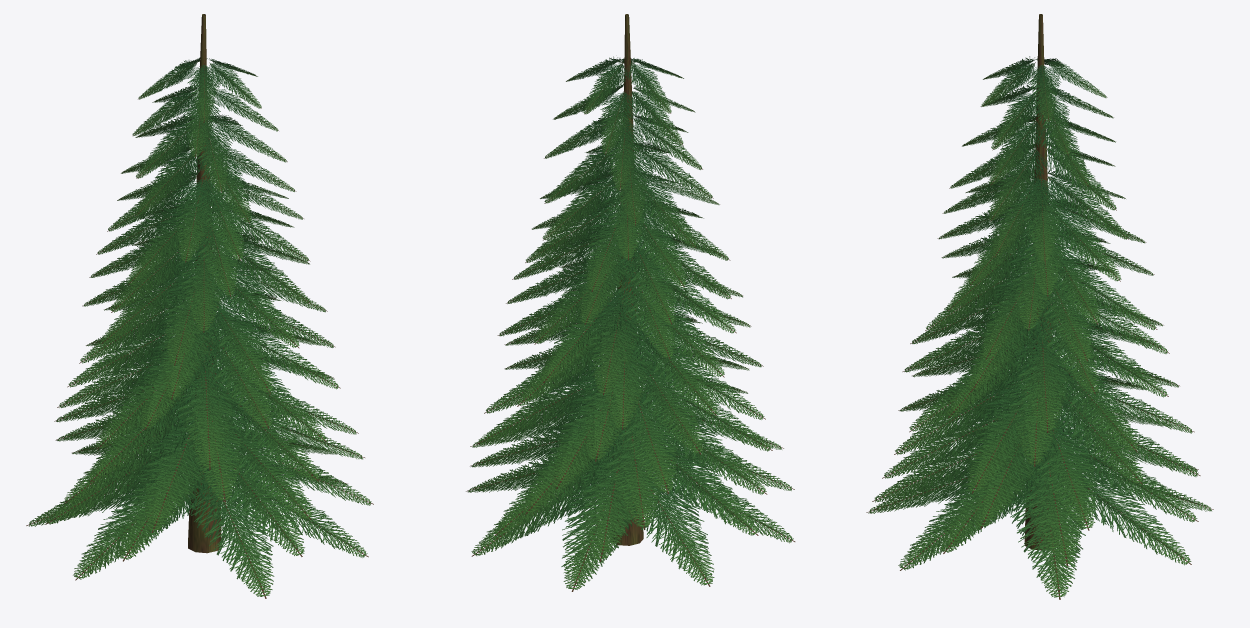
The model's file is tree_pine.glb.
3 renders of one model, left to right at view 1: azimuth 30°, elevation 25°; view 2: azimuth 150°, elevation 25°; view 3: azimuth 270°, elevation 25°, orthographic.
Parts seen in each view (by area): view 1: tree_pine; view 2: tree_pine; view 3: tree_pine.
Boxes of the visible parts, x1,y1,x2,y2 form: tree_pine: [26, 14, 373, 598]; tree_pine: [466, 14, 795, 591]; tree_pine: [866, 14, 1213, 599].
Bounding box in the file's own units: 7.92 × 12 × 7.96.
2 materials, 2 textured.
